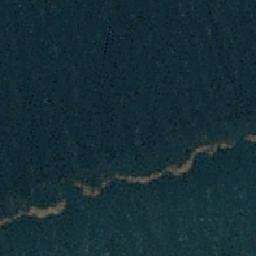debris: (26, 201, 66, 218), (69, 180, 101, 196), (1, 211, 27, 225), (157, 165, 183, 174), (102, 173, 128, 181), (196, 146, 221, 154), (129, 176, 157, 183), (185, 152, 194, 171), (241, 133, 256, 142), (225, 142, 238, 149)
